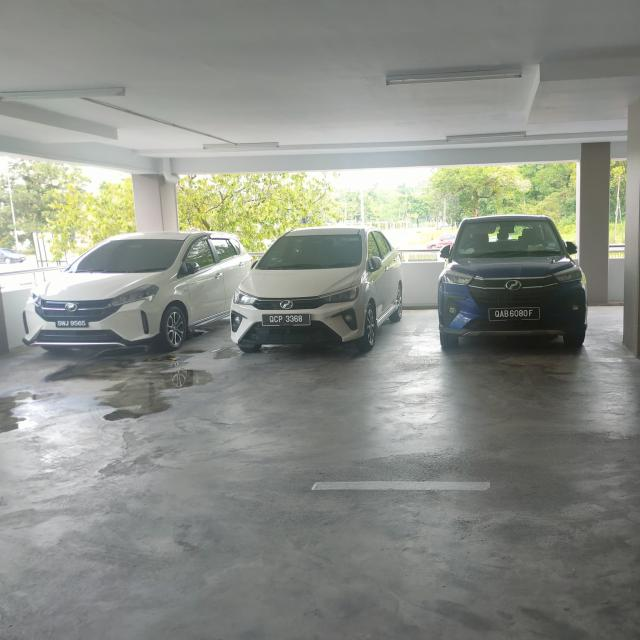PeroduaAtiva: (432, 216, 590, 353)
PeroduaBezza: (227, 222, 408, 352)
